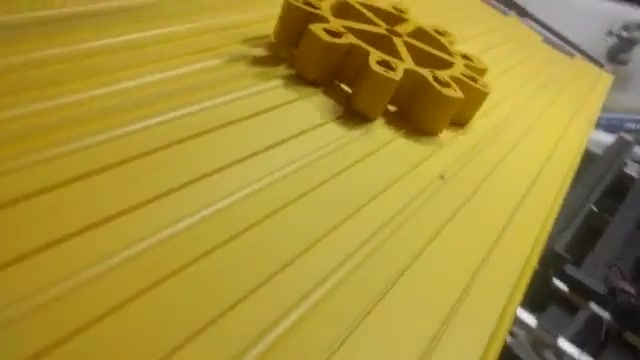gear: (268, 1, 497, 150)
